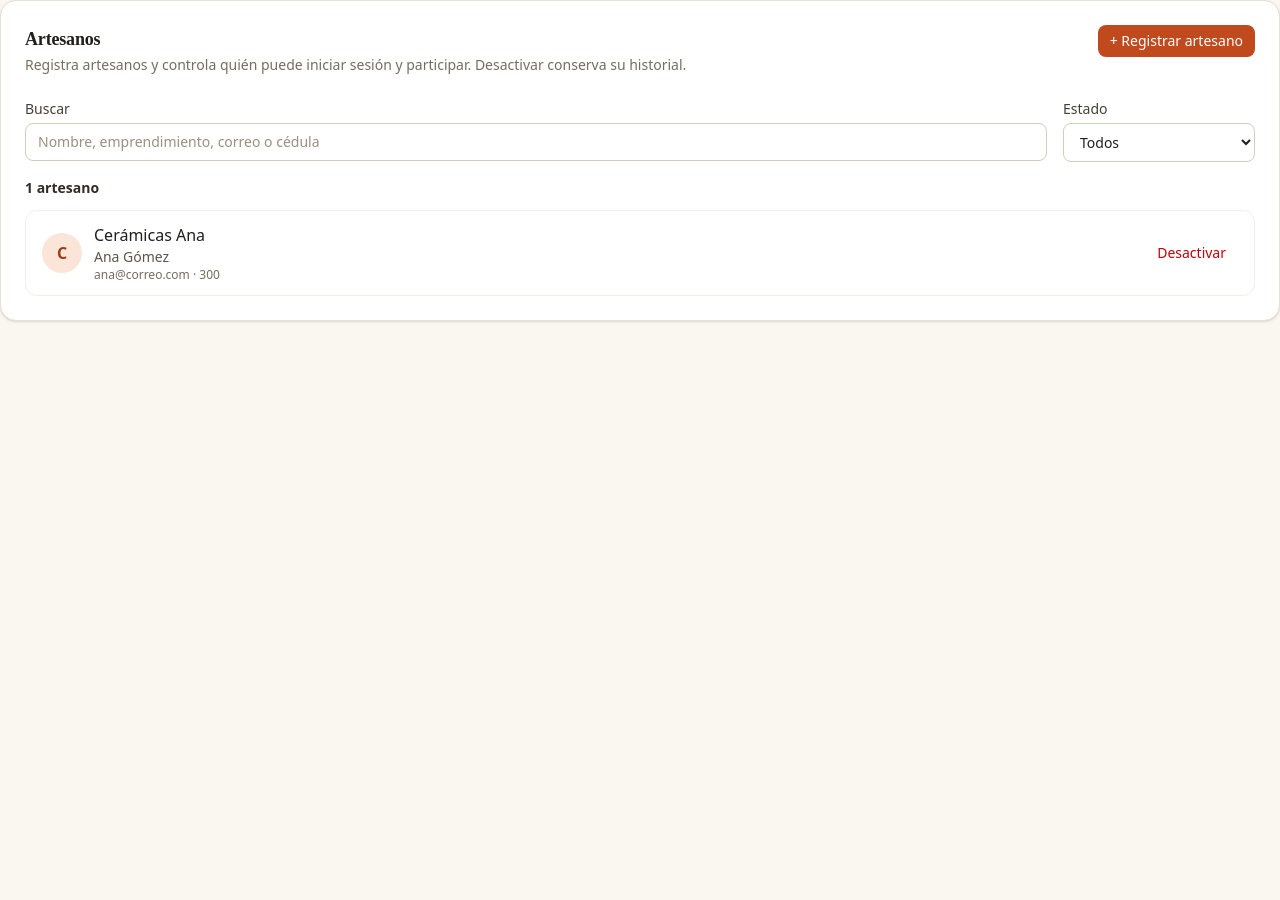
Scenario: GestionArtesanos: cambiar el estado › desactivar pide confirmación y, al confirmar, desactiva y refresca
Click the button "Desactivar" at (1192, 253), box [1145, 237, 1238, 269]
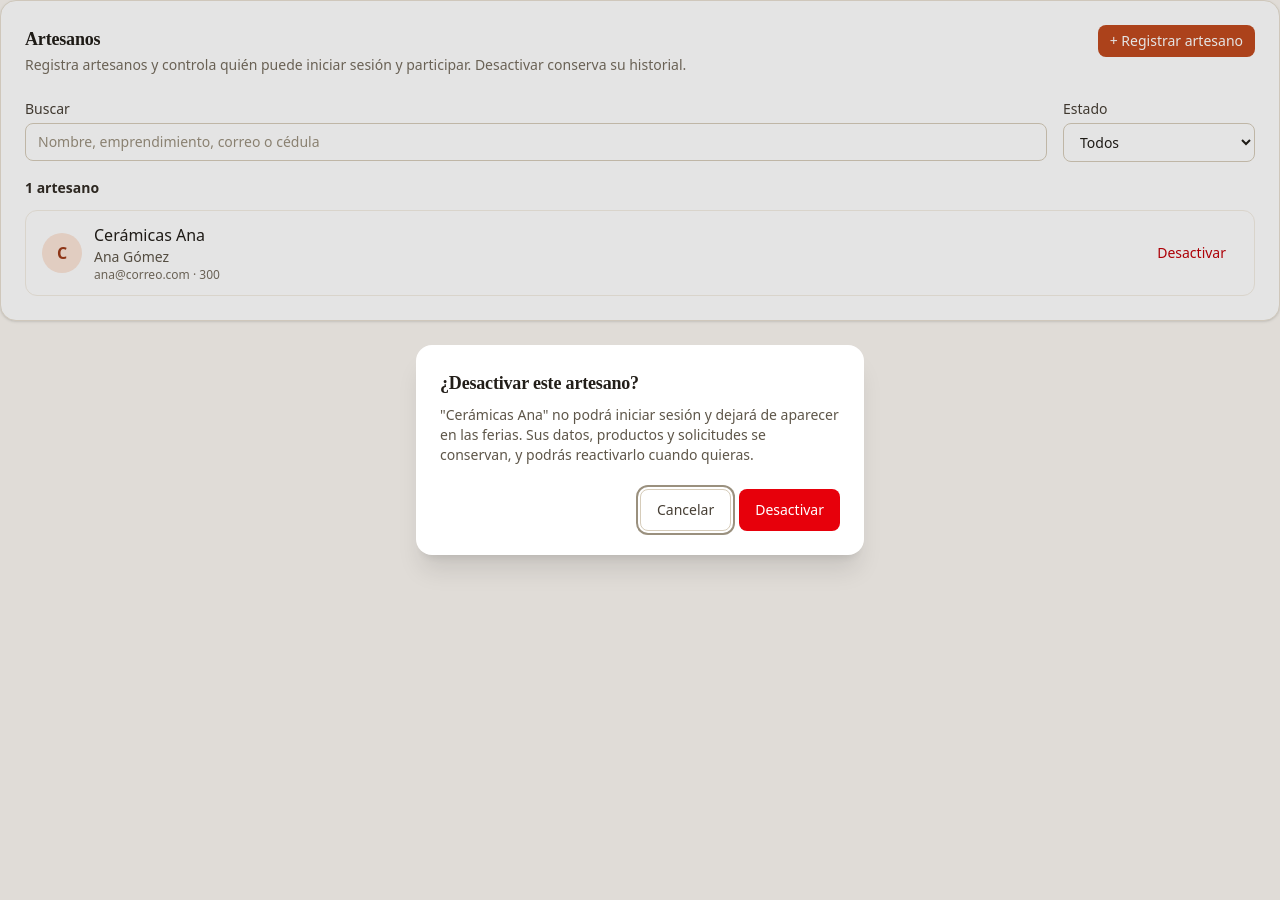
Result: the heading "¿Desactivar este artesano?" is shown at [440, 373, 639, 393]
Result: the text "\"Cerámicas Ana\" no podrá iniciar sesión" is shown at [440, 405, 839, 464]
Click the button "Desactivar" at (790, 510), box [739, 489, 840, 531]
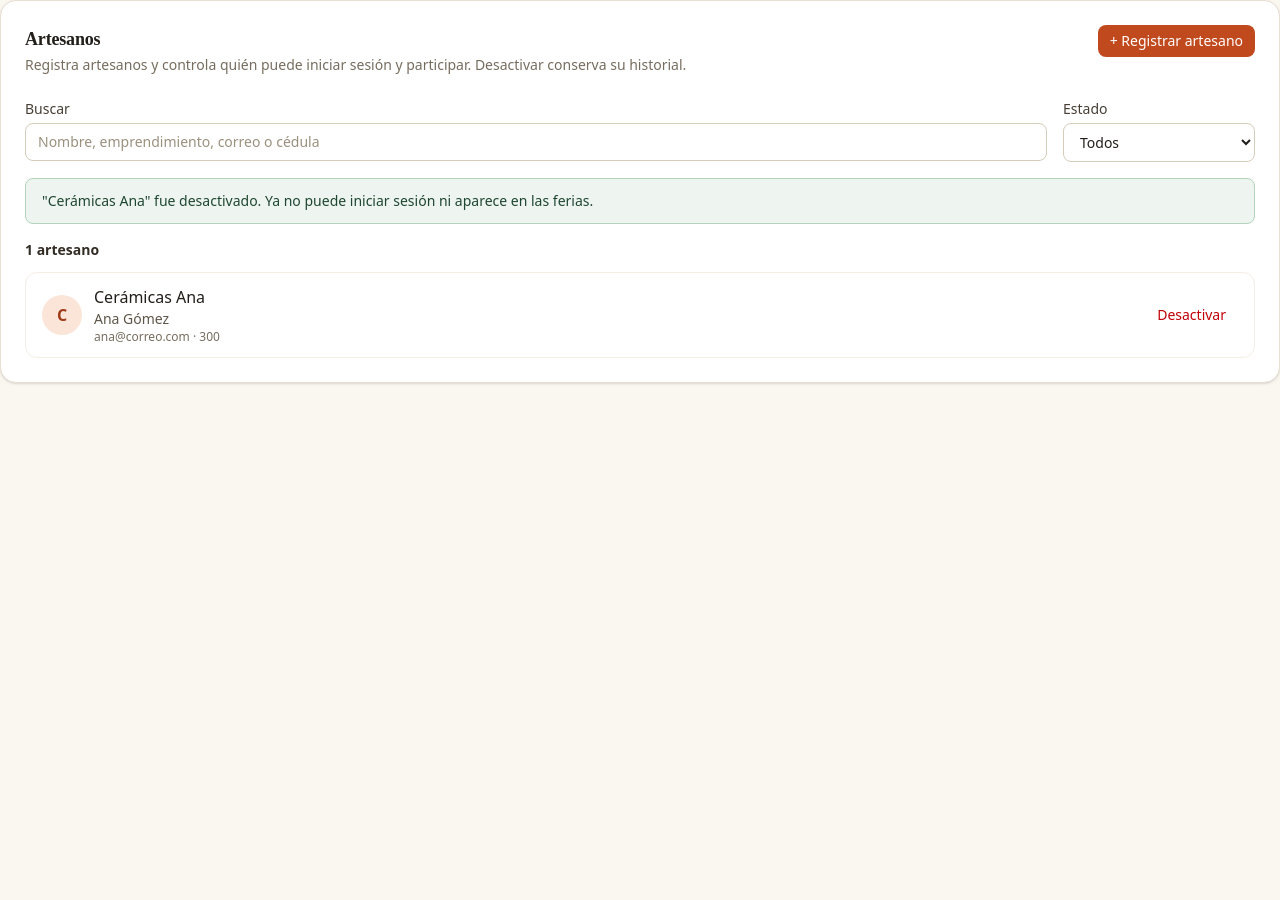
Result: the text "\"Cerámicas Ana\" fue desactivado" is shown at [42, 191, 593, 210]
Result: the dialog is gone
